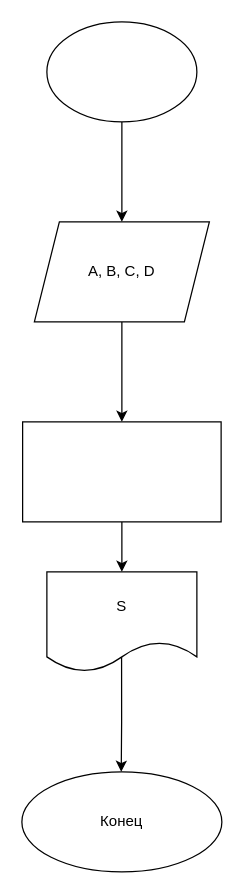
The diagram is 244 pixels wide and 894 high, and some of its shapes have lost their labels. Each missing label, with the centre of its shape:
S=(A+B+C+D)/4: pixel 121 471
Начало: pixel 121 71
